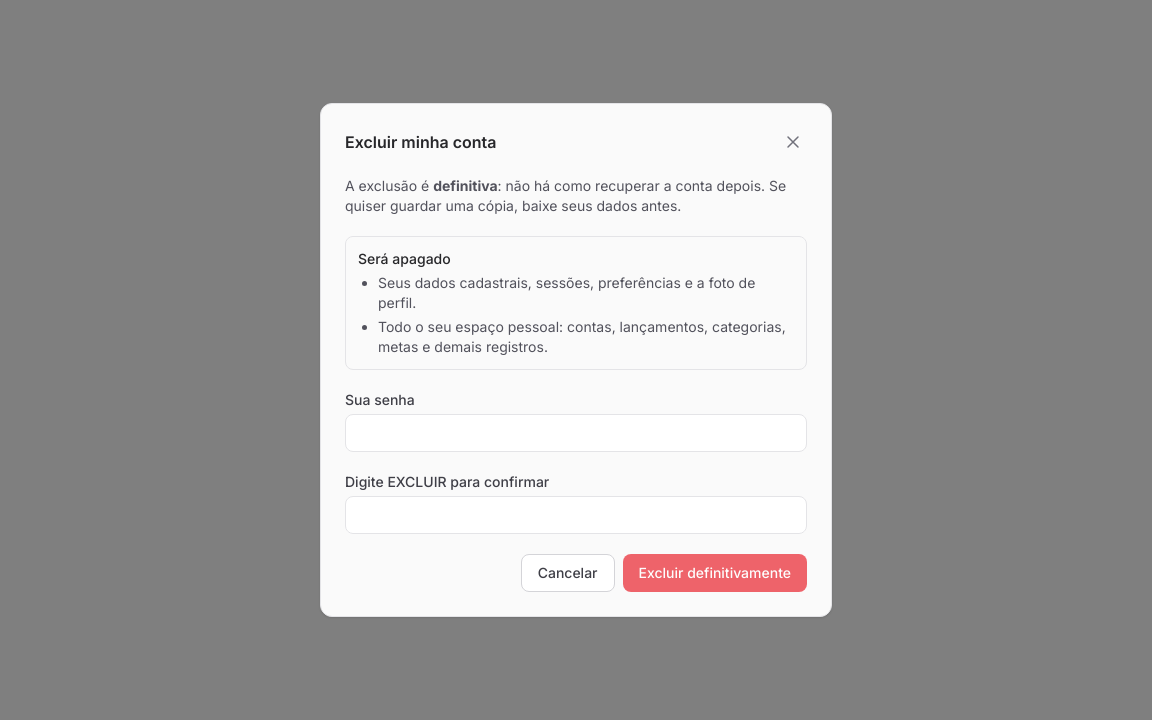
DeleteAccountModal › keeps the delete button disabled until password and confirmation word are filled
Check: the button "Excluir definitivamente" is disabled, box top-left (622, 554), bottom-right (807, 592)
Type "senha12345" into the password field labelled "Sua senha".
click(576, 433); type("senha12345")  # box top-left (345, 414), bottom-right (807, 452)
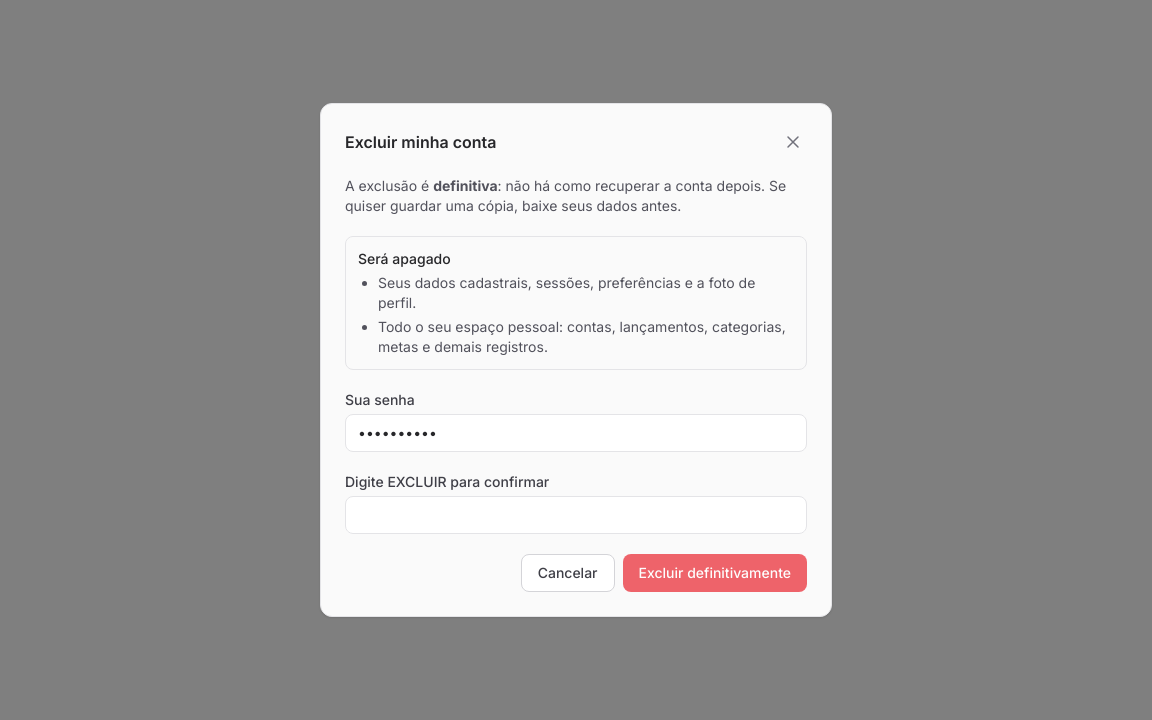
Check: the button "Excluir definitivamente" is disabled, box top-left (622, 554), bottom-right (807, 592)
Type "EXCLUIR" into the field labelled "Digite EXCLUIR para confirmar".
click(576, 515); type("EXCLUIR")  # box top-left (345, 496), bottom-right (807, 534)
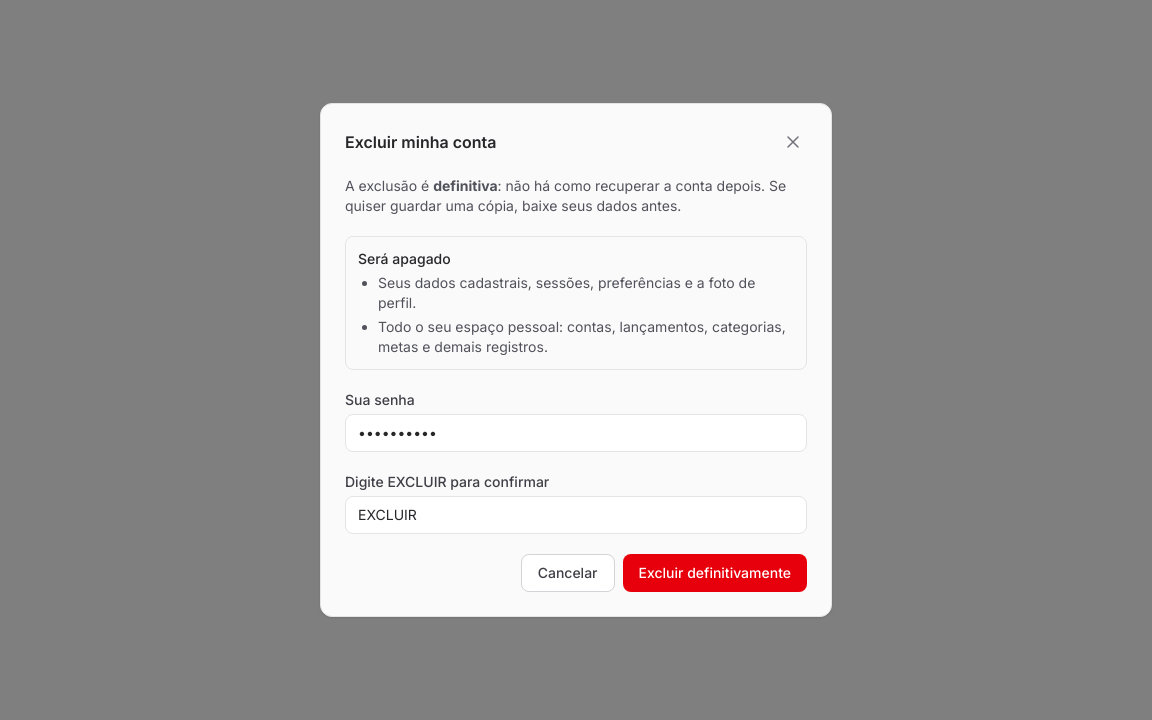
Check: the button "Excluir definitivamente" is enabled, box top-left (622, 554), bottom-right (807, 592)
